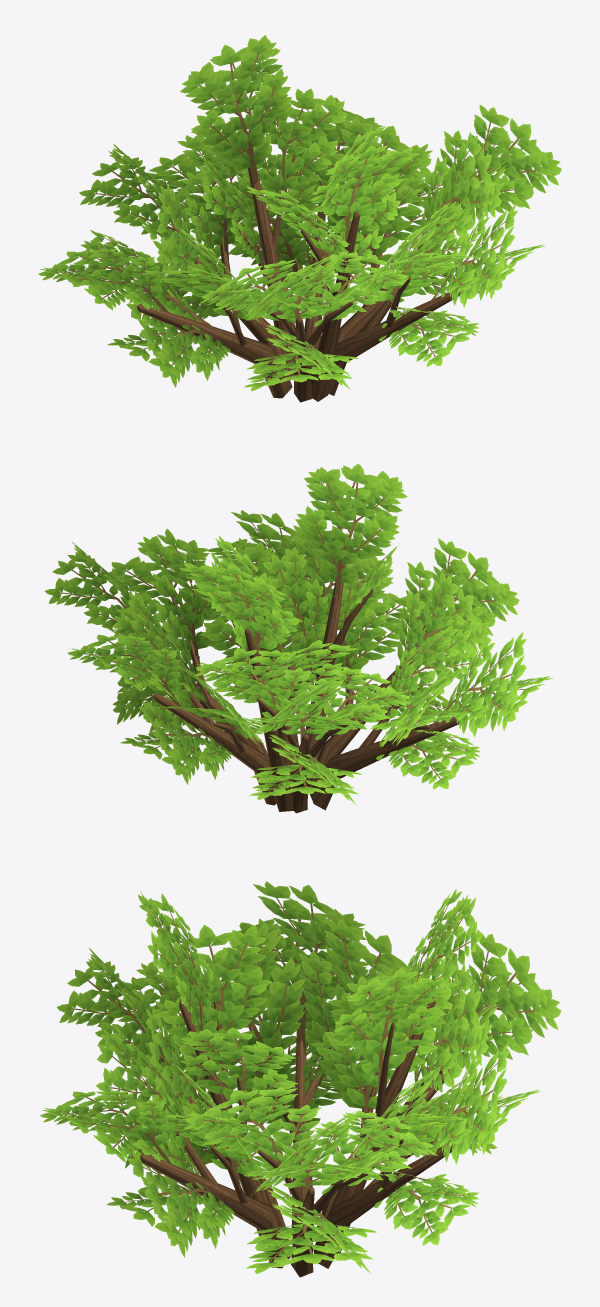
File: shrub-BS2Vn5dY.glb
The picture shows the model from 3 angles, top to bottom: view 1: azimuth 30°, elevation 25°; view 2: azimuth 150°, elevation 25°; view 3: azimuth 270°, elevation 25°; orthographic projection. The views are drawn at different scales.
Visible parts, largest first — view 1: ShrubFoliage, ShrubBark; view 2: ShrubFoliage, ShrubBark; view 3: ShrubFoliage, ShrubBark.
Boxes of the visible parts, x1,y1,x2,y2 form: ShrubFoliage: (38, 35, 561, 391); ShrubBark: (137, 145, 460, 402); ShrubFoliage: (44, 463, 553, 805); ShrubBark: (154, 564, 463, 813); ShrubFoliage: (40, 881, 561, 1273); ShrubBark: (138, 997, 463, 1277).
Size of the model in its own units: 1.42 by 0.86 by 1.14.
Materials: 2 (2 with a texture image).
